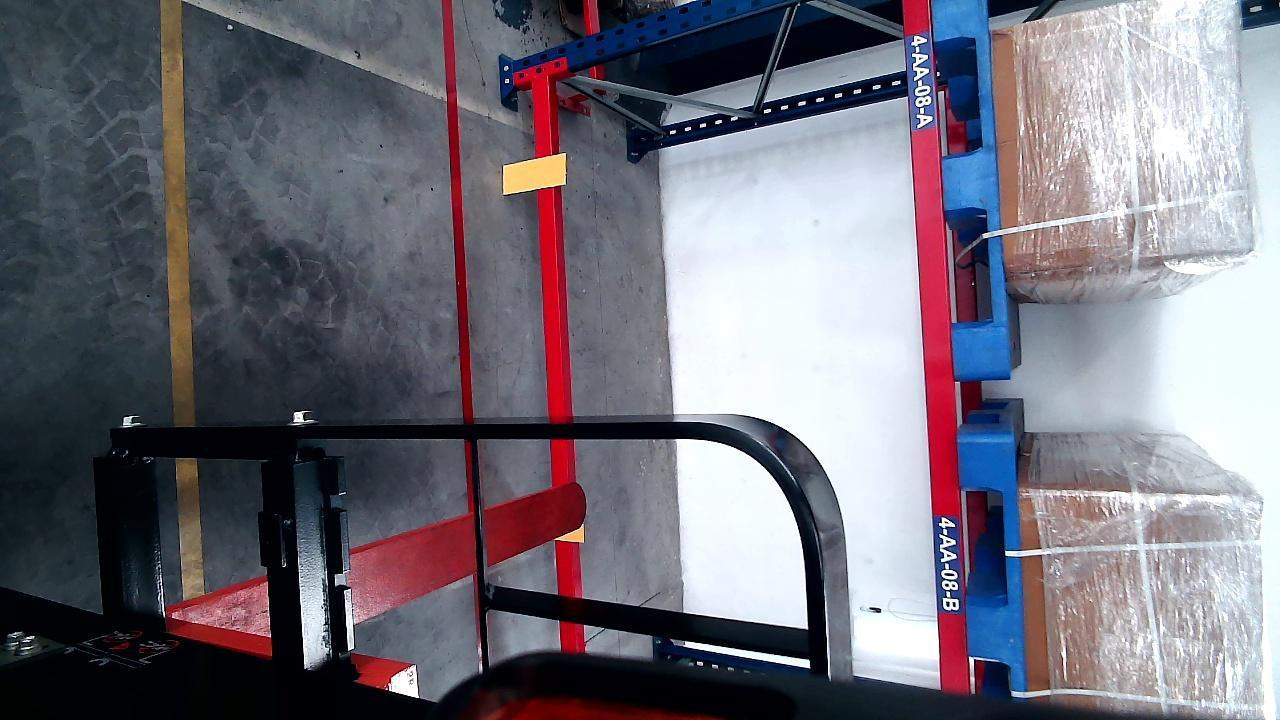h_rack: (904, 0, 969, 698), (536, 53, 575, 582)
orange_strip: (502, 154, 565, 193)
red_line: (445, 0, 473, 423)
small_pallet: (936, 0, 1014, 366), (962, 434, 1025, 699)
yellow_line: (163, 0, 194, 418)
